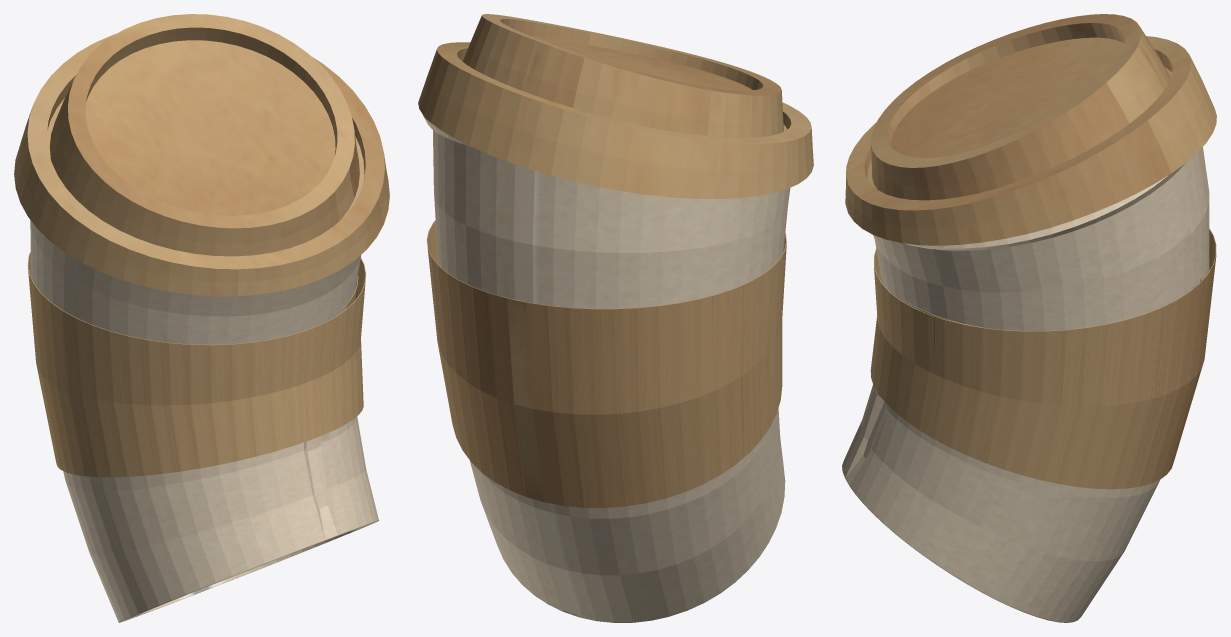
The model's file is bend_medium_0.obj.
3 views of the same model, side by side, from view 1: azimuth 30°, elevation 25°; view 2: azimuth 150°, elevation 25°; view 3: azimuth 270°, elevation 25° (orthographic). The views are drawn at different scales.
Parts seen in each view (by area): view 1: model; view 2: model; view 3: model.
Part boxes in pixels (x1,y1,x2,y2): model: [14, 14, 389, 622]; model: [418, 14, 813, 622]; model: [842, 14, 1216, 622].
Size of the model in its own units: 0.0721 by 0.1183 by 0.0708.
1 material, 1 textured.
